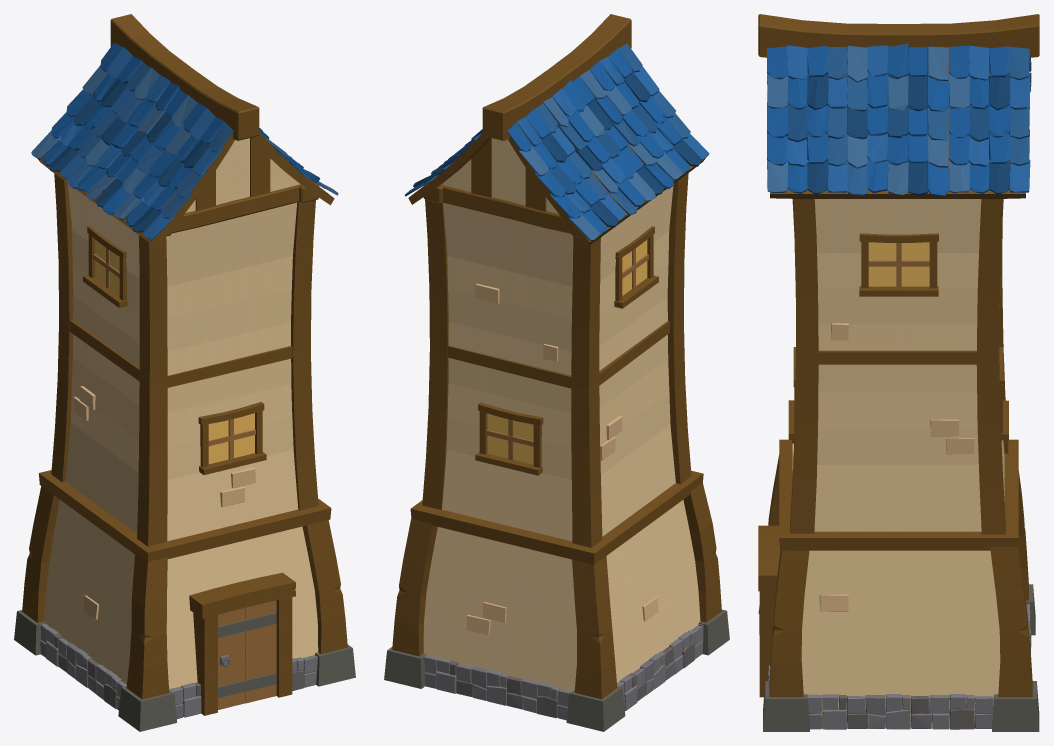
Rendered from MillPart_01.fbx.
3 views of the same model, side by side, from view 1: azimuth 30°, elevation 25°; view 2: azimuth 150°, elevation 25°; view 3: azimuth 270°, elevation 25° (orthographic). The views are drawn at different scales.
Parts seen in each view (by area): view 1: MillPart_01; view 2: MillPart_01; view 3: MillPart_01.
Part boxes in pixels (x1,y1,x2,y2): MillPart_01: (14,14,355,731); MillPart_01: (384,14,729,731); MillPart_01: (758,14,1039,731).
Size of the model in its own units: 361 by 943 by 368.
1 material, 1 textured.
